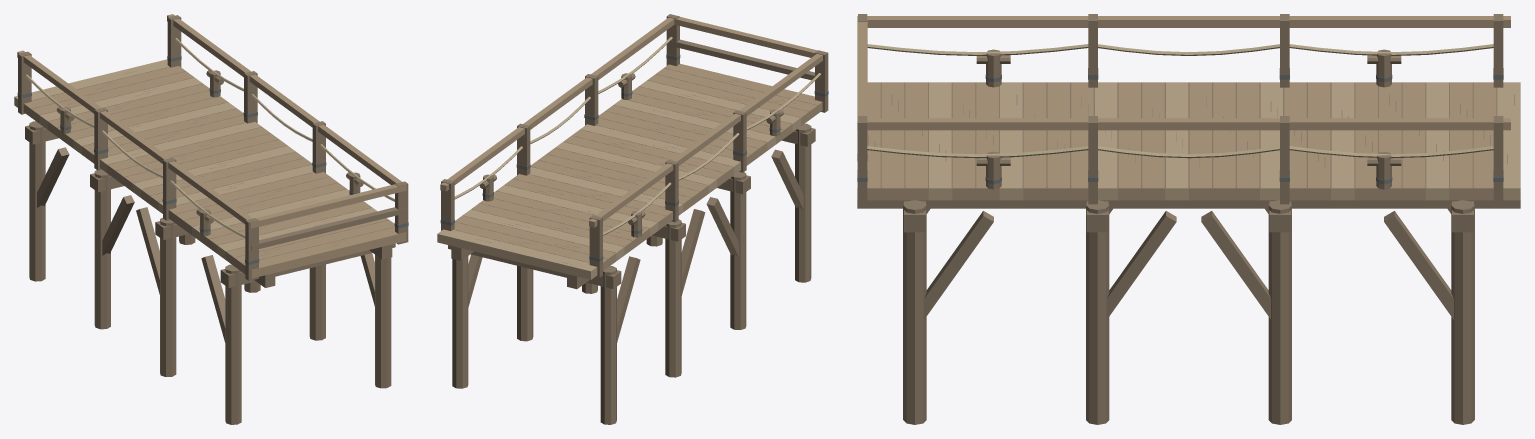
The model's file is holm_arrival_dock_overhaul_v1.glb.
3 views of the same model, side by side, from view 1: azimuth 30°, elevation 25°; view 2: azimuth 150°, elevation 25°; view 3: azimuth 270°, elevation 25° (orthographic). The views are drawn at different scales.
Visible parts, largest first — view 1: DockDeck, DockPiles, DockRails, DockStructure, DockRopes, DockBollards, DockIron; view 2: DockDeck, DockPiles, DockRails, DockStructure, DockRopes, DockBollards, DockIron; view 3: DockDeck, DockRails, DockPiles, DockStructure, DockRopes, DockBollards, DockIron.
Boxes of the visible parts, x1=… form: DockDeck: x1=14, y1=59, x2=406, y2=278; DockPiles: x1=29, y1=121, x2=391, y2=424; DockRails: x1=17, y1=14, x2=408, y2=280; DockStructure: x1=25, y1=125, x2=395, y2=342; DockRopes: x1=25, y1=38, x2=394, y2=238; DockBollards: x1=56, y1=70, x2=363, y2=235; DockIron: x1=17, y1=56, x2=408, y2=264; DockDeck: x1=437, y1=63, x2=822, y2=279; DockPiles: x1=452, y1=123, x2=811, y2=424; DockRails: x1=440, y1=14, x2=828, y2=277; DockStructure: x1=448, y1=128, x2=815, y2=342; DockRopes: x1=454, y1=37, x2=820, y2=235; DockBollards: x1=479, y1=73, x2=783, y2=237; DockIron: x1=440, y1=55, x2=828, y2=261; DockDeck: x1=857, y1=82, x2=1520, y2=200; DockRails: x1=857, y1=14, x2=1510, y2=204; DockPiles: x1=903, y1=200, x2=1474, y2=424; DockStructure: x1=857, y1=200, x2=1520, y2=319; DockRopes: x1=867, y1=44, x2=1493, y2=158; DockBollards: x1=976, y1=49, x2=1401, y2=189; DockIron: x1=857, y1=68, x2=1503, y2=184.
Bounding box in the file's own units: 3.66 × 4.5 × 9.
